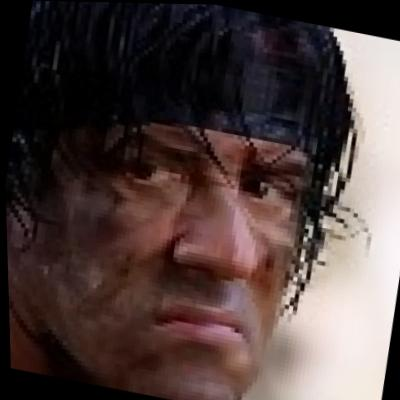angry: (14, 49, 319, 400)
